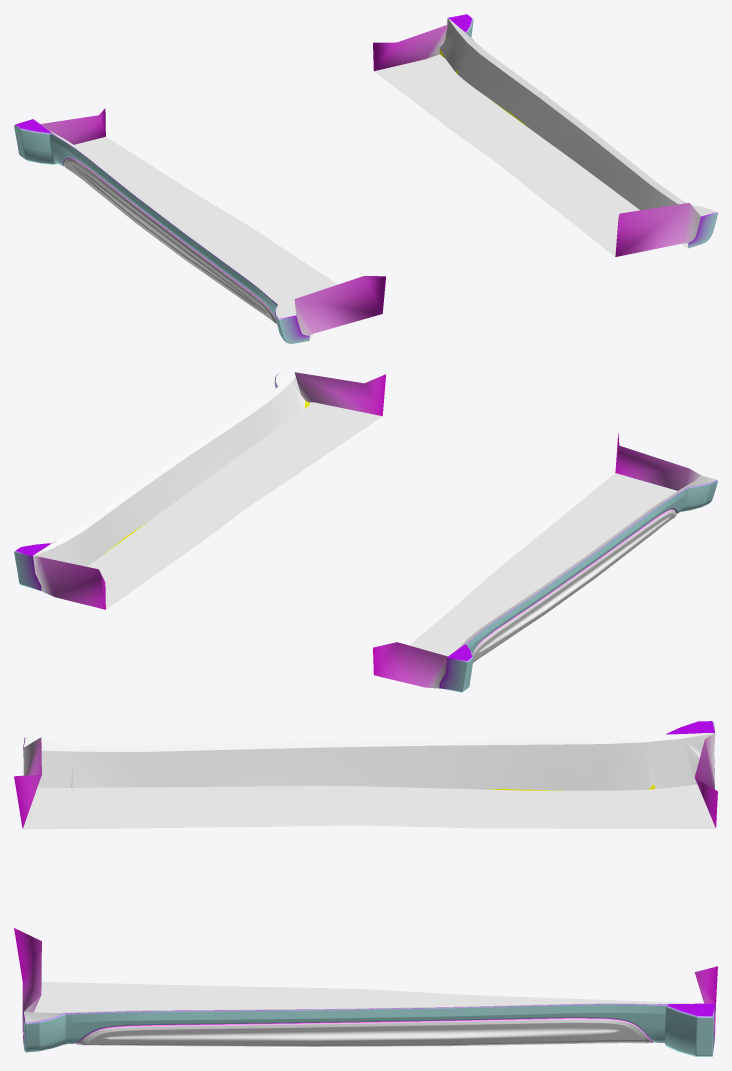
The model's file is Car_Mini_CountrymanJCW_2017_Skirts_SetA_AltG.fbx.
The picture shows the model from 3 angles, top to bottom: view 1: azimuth 30°, elevation 25°; view 2: azimuth 150°, elevation 25°; view 3: azimuth 270°, elevation 25°; orthographic projection. The views are drawn at different scales.
Parts seen in each view (by area): view 1: Skirts 6; view 2: Skirts 6; view 3: Skirts 6.
Part boxes in pixels (box(x1,y1,x2,y2)): Skirts 6: box(14, 14, 717, 343); Skirts 6: box(14, 372, 717, 692); Skirts 6: box(14, 721, 717, 1056).
Size of the model in its own units: 1.89 by 0.1973 by 1.9.
